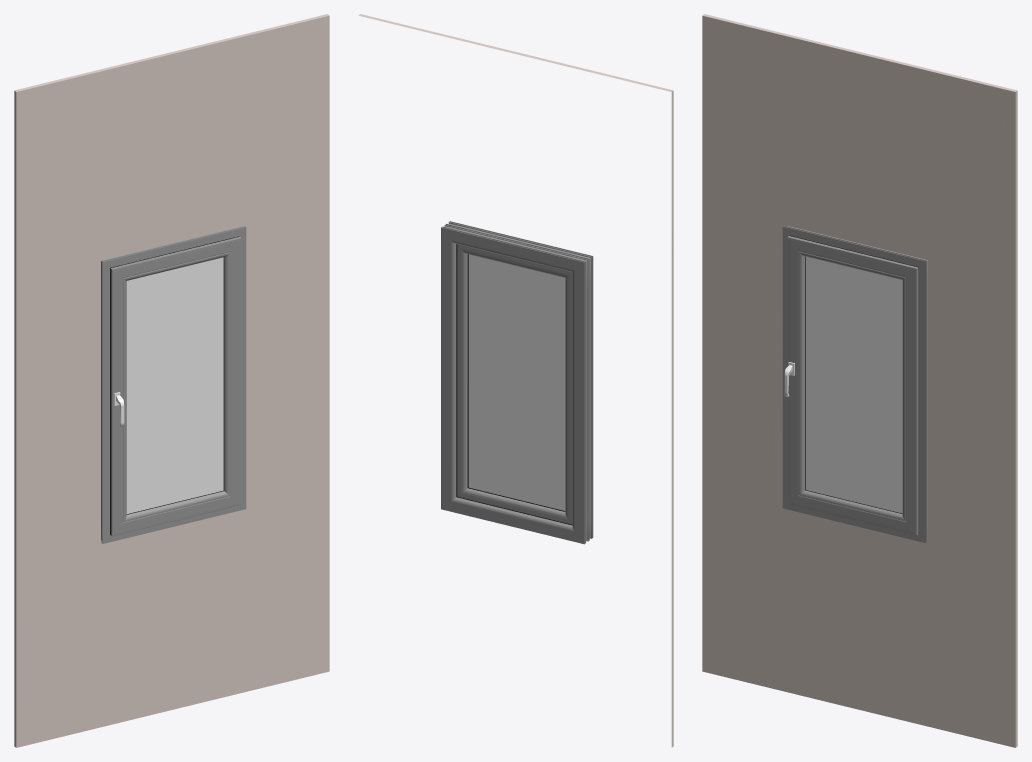
Rendered from window.glb.
The picture shows the model from 3 angles, left to right: view 1: azimuth 30°, elevation 25°; view 2: azimuth 150°, elevation 25°; view 3: azimuth 330°, elevation 25°; orthographic projection.
Parts seen in each view (by area): view 1: Cube.012; view 2: Cube.012; view 3: Cube.012.
Boxes of the visible parts, box(x1,y1,x2,y2) form: Cube.012: box(14, 14, 329, 747); Cube.012: box(358, 14, 673, 747); Cube.012: box(702, 14, 1017, 747).
Size of the model in its own units: 1.71 by 3.42 by 0.1605.
Materials: 4 (4 with a texture image).
